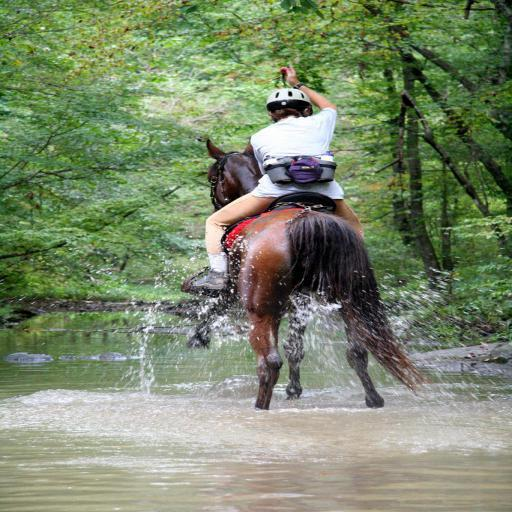horse: (204, 138, 424, 412)
